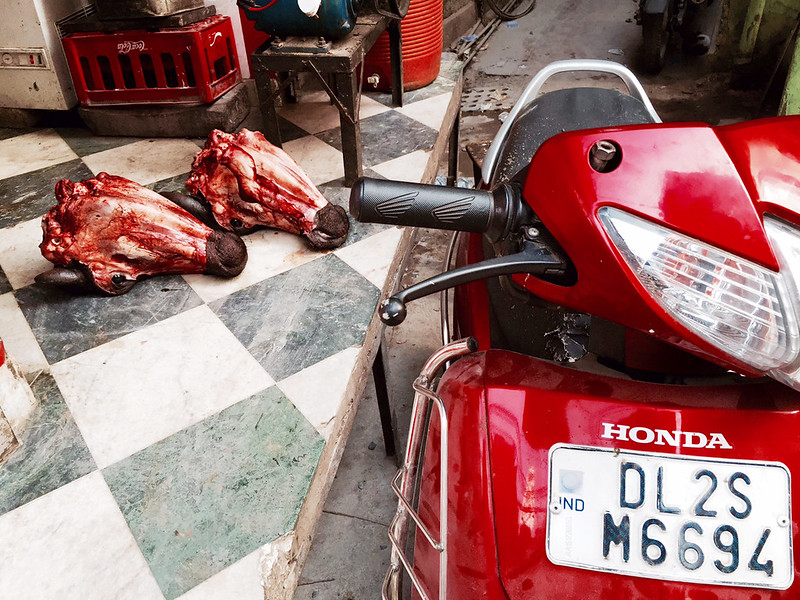number_plate: (543, 441, 798, 595)
